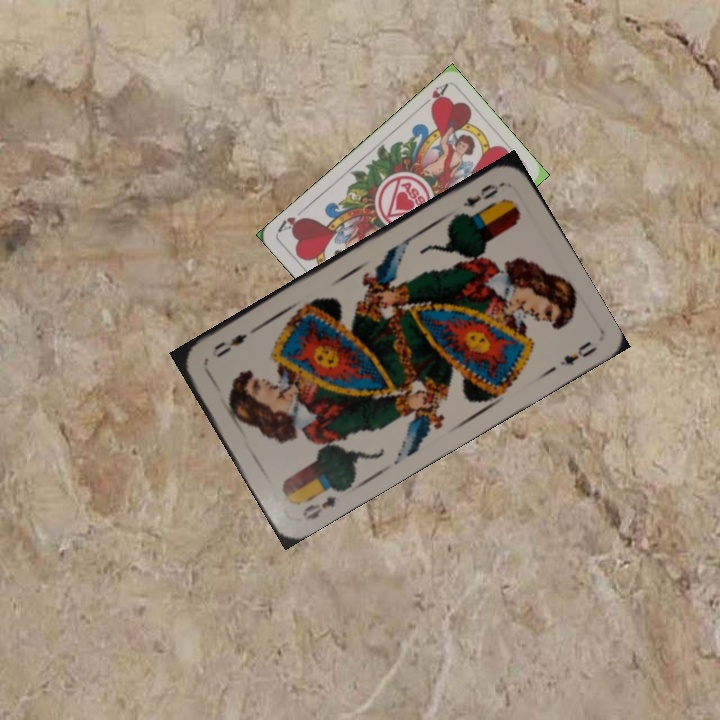EO: (459, 179, 505, 211), (298, 491, 339, 524)
HA: (416, 80, 450, 111)
